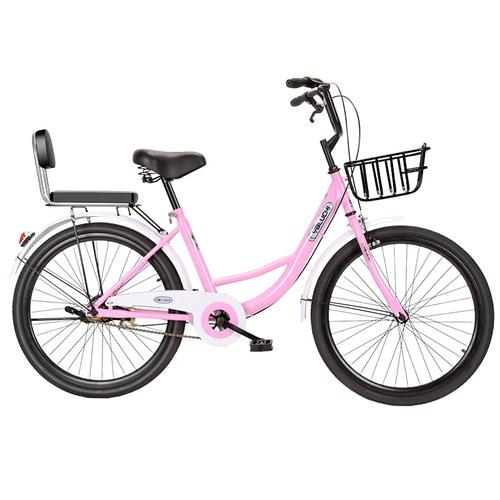单车: (6, 67, 500, 419)
